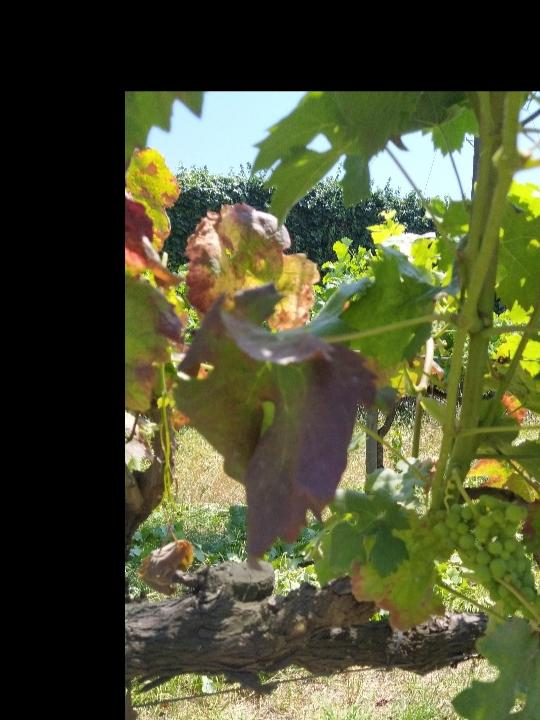grape: (427, 488, 540, 615)
